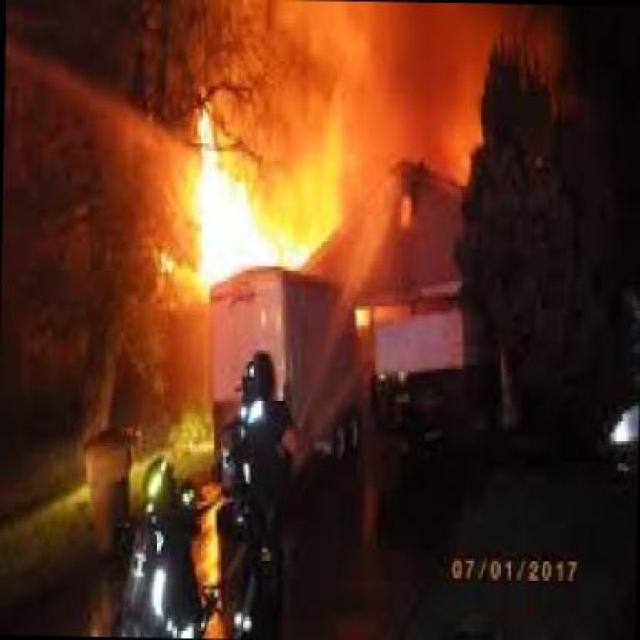Fire: (182, 146, 288, 292)
Smoke: (298, 0, 486, 223), (200, 11, 300, 136)
